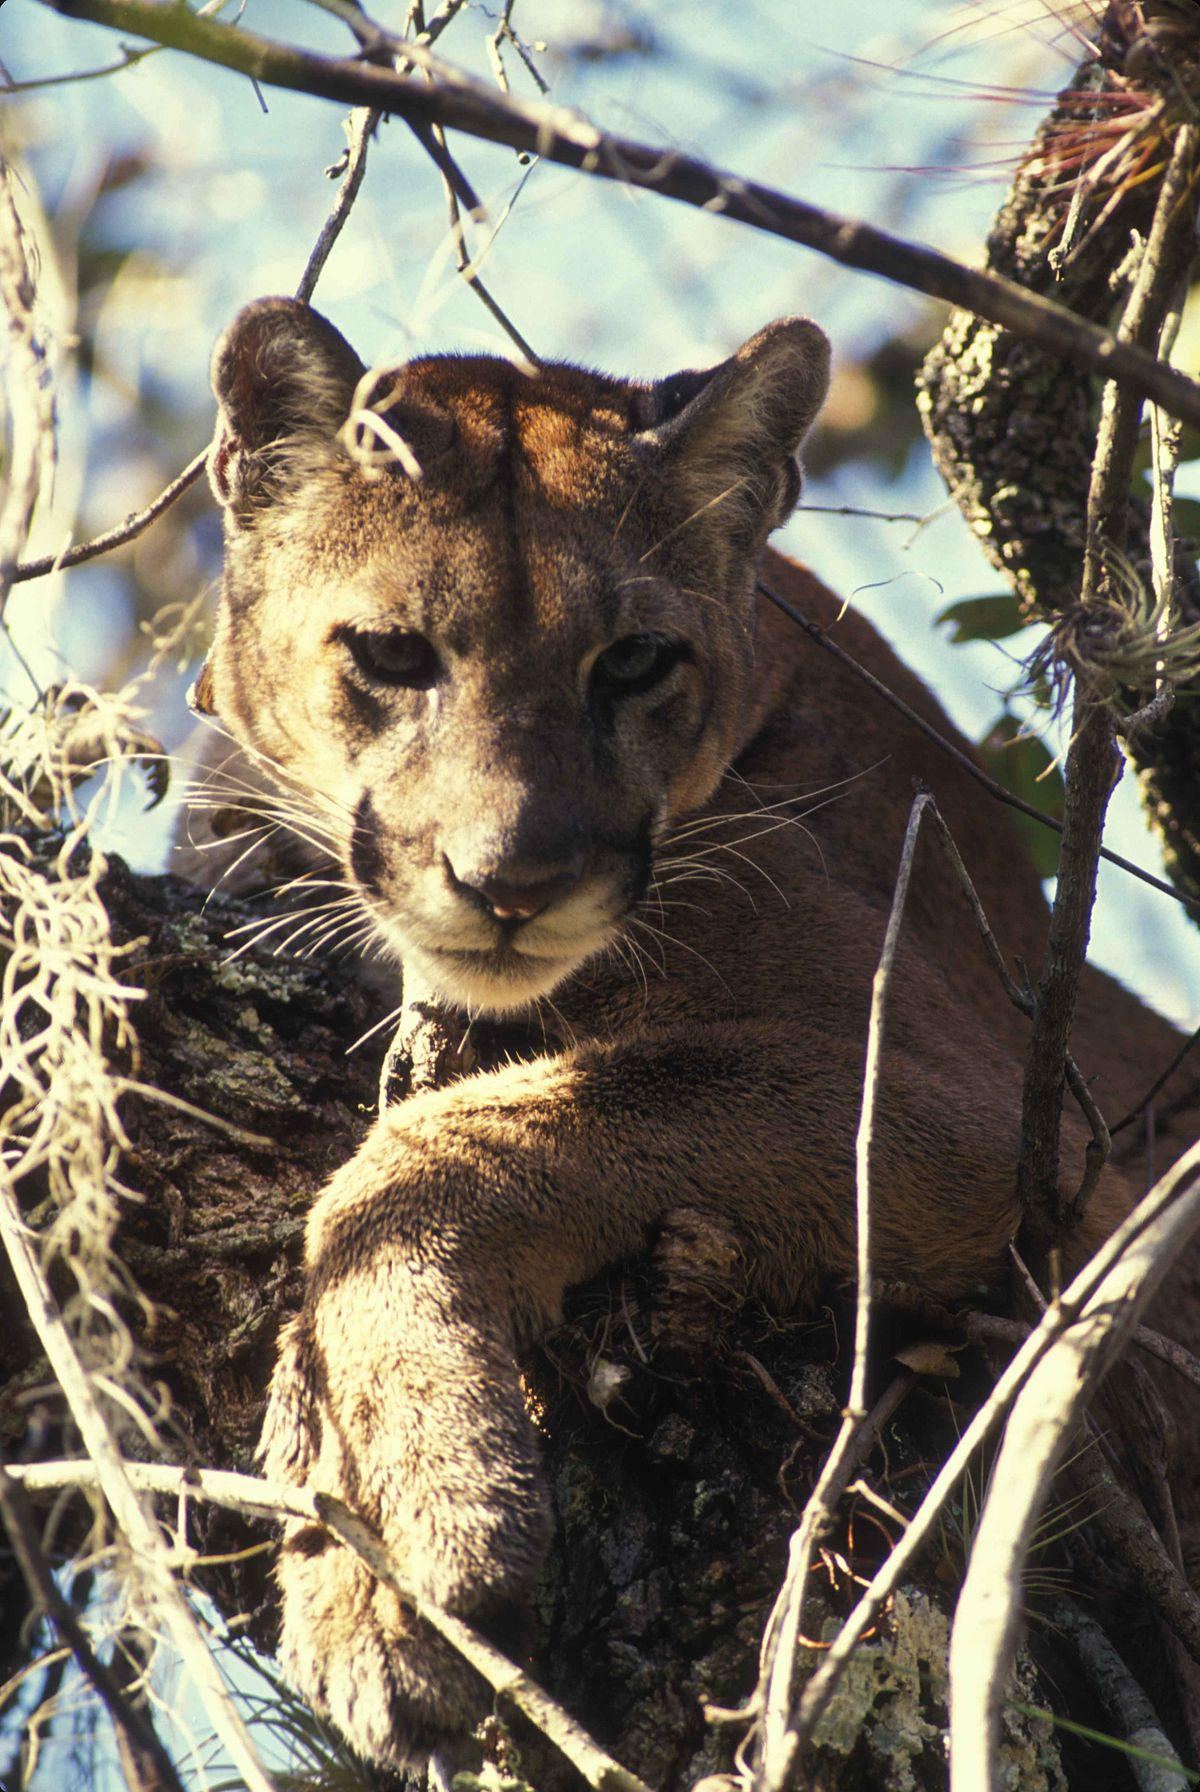OncaParda: (181, 283, 1195, 1752)
